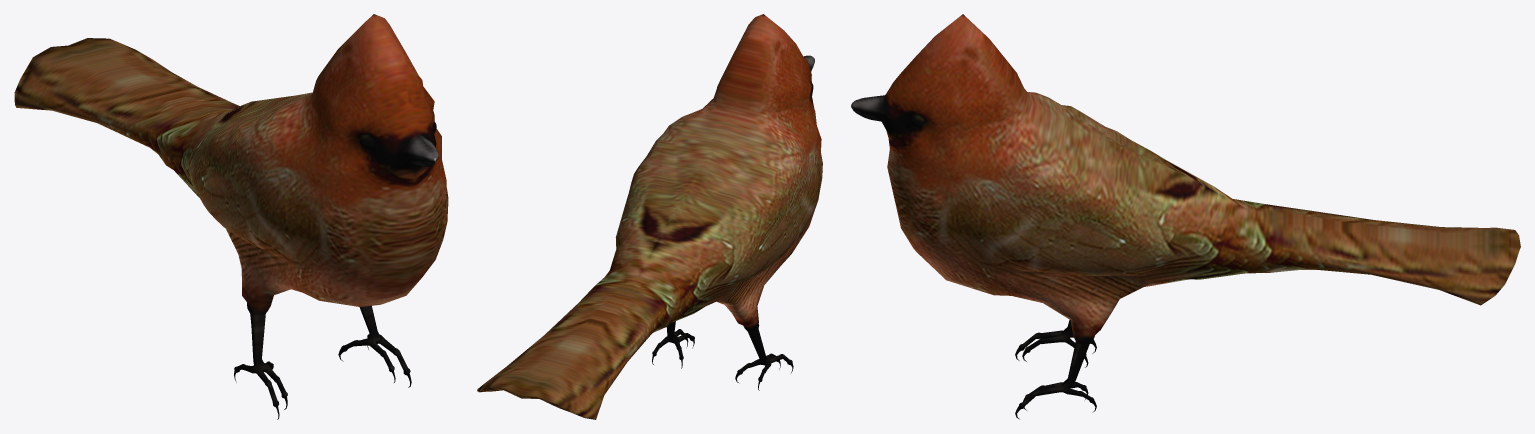
File: Cardinal-red.fbx
3 views of the same model, side by side, from view 1: azimuth 30°, elevation 25°; view 2: azimuth 150°, elevation 25°; view 3: azimuth 270°, elevation 25° (orthographic). The views are drawn at different scales.
Visible parts, largest first — view 1: cardinal_m; view 2: cardinal_m; view 3: cardinal_m.
Boxes of the visible parts, x1=… form: cardinal_m: x1=14, y1=14, x2=448, y2=419; cardinal_m: x1=477, y1=14, x2=822, y2=419; cardinal_m: x1=851, y1=14, x2=1520, y2=419.
Size of the model in its own units: 8.75 by 19.2 by 30.93.
Materials: 1 (1 with a texture image).
